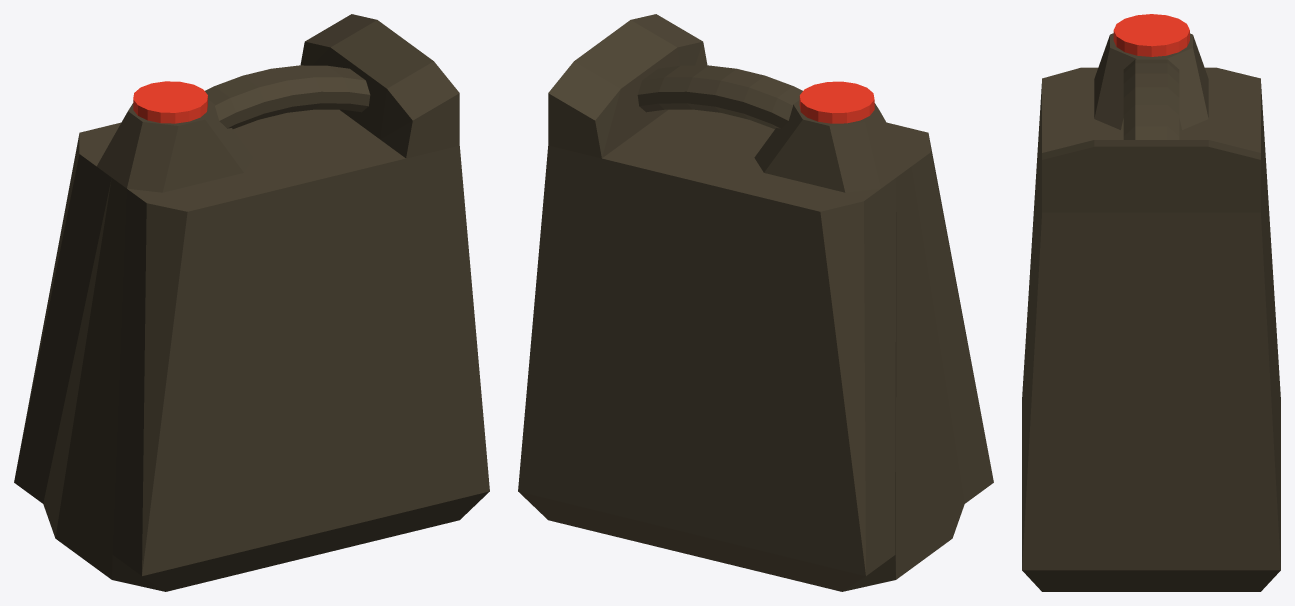
The model's file is SM_container_fluid_02.fbx.
The picture shows the model from 3 angles, left to right: view 1: azimuth 30°, elevation 25°; view 2: azimuth 150°, elevation 25°; view 3: azimuth 270°, elevation 25°; orthographic projection.
Visible parts, largest first — view 1: container_fluid_02; view 2: container_fluid_02; view 3: container_fluid_02.
Boxes of the visible parts, left/top/right/bottom form: container_fluid_02: left=14, top=14, right=489, bottom=591; container_fluid_02: left=518, top=14, right=993, bottom=591; container_fluid_02: left=1022, top=14, right=1280, bottom=591.
Bounding box in the file's own units: 53.07 × 64.22 × 33.8.
